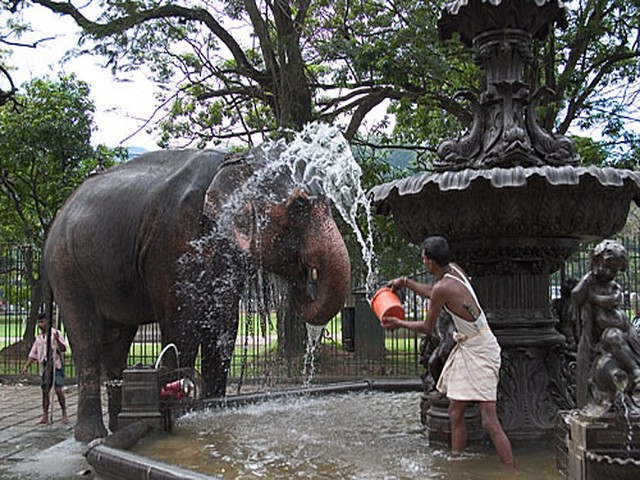Elephant: (43, 131, 357, 399)
Person: (398, 232, 517, 462), (25, 314, 67, 426)
